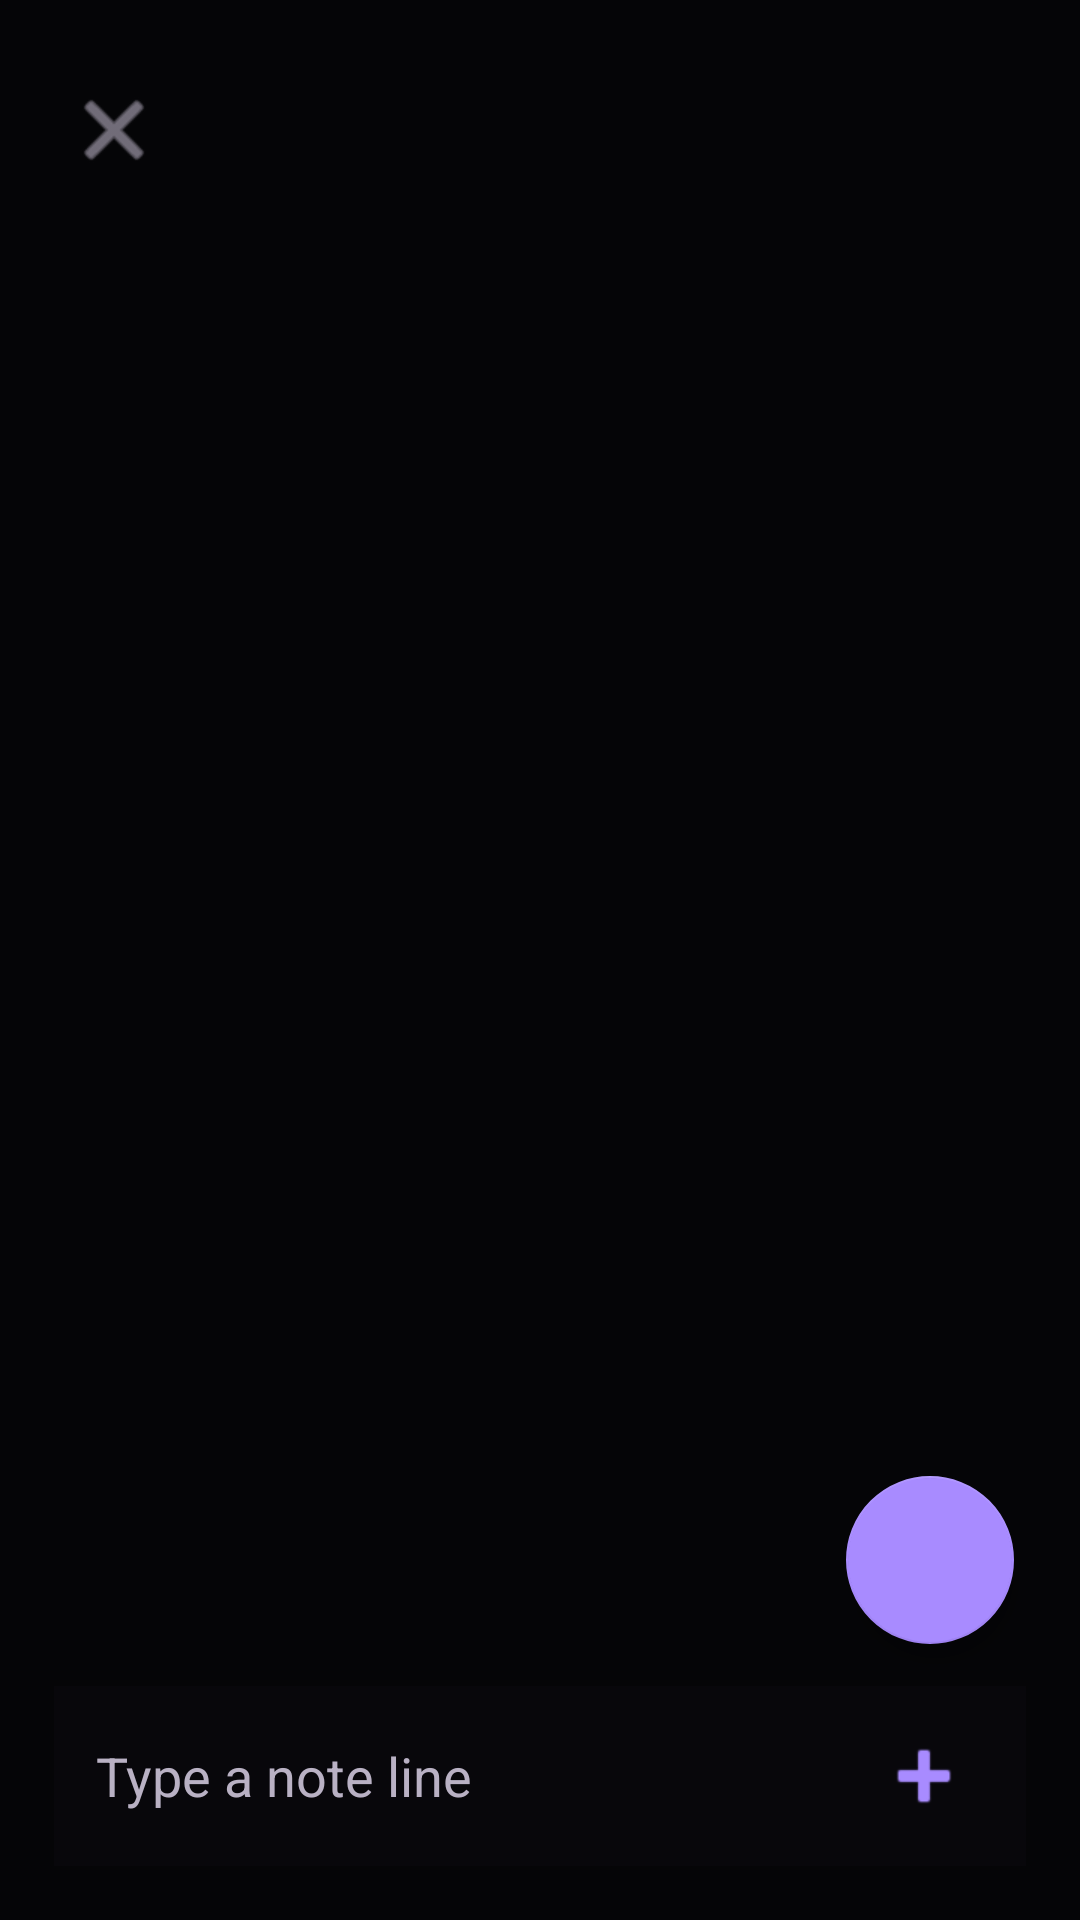

Named icons in this screenshot (1080 × 1920) and their centers, [x,y]:
Add line: [924,1776]
close clear cancel: [114,130]
